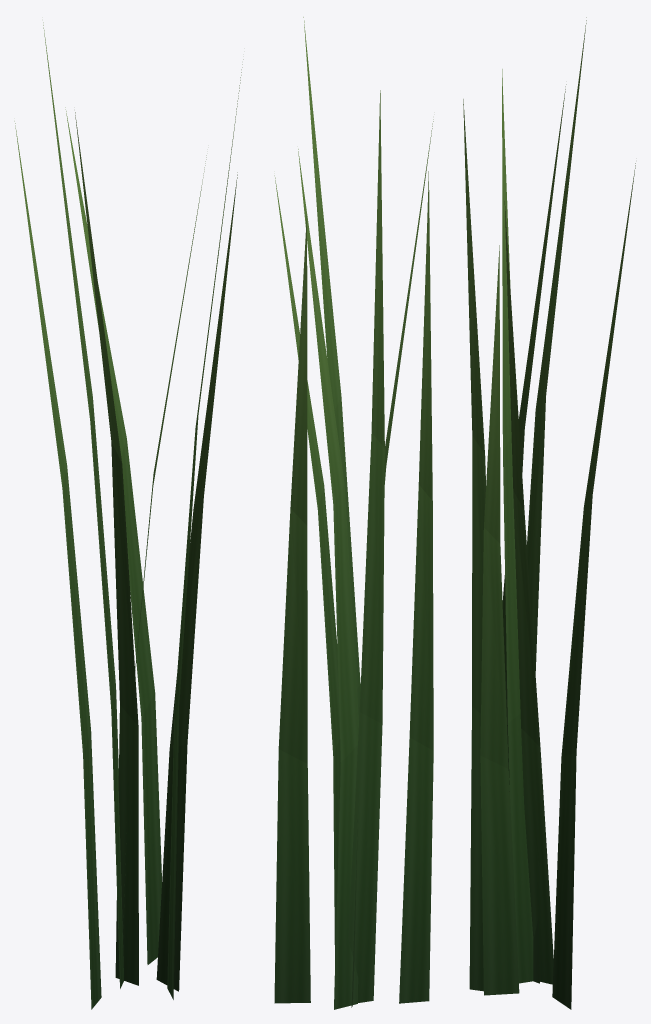
Rendered from forest_grass_002_a_LOD2.gltf.
3 views of the same model, side by side, from view 1: azimuth 30°, elevation 25°; view 2: azimuth 150°, elevation 25°; view 3: azimuth 270°, elevation 25° (orthographic).
Parts seen in each view (by area): view 1: forest_grass_002_a_LOD2; view 2: forest_grass_002_a_LOD2; view 3: forest_grass_002_a_LOD2.
Part boxes in pixels (bbox=[...]): forest_grass_002_a_LOD2: bbox=[14, 22, 243, 1009]; forest_grass_002_a_LOD2: bbox=[274, 17, 433, 1009]; forest_grass_002_a_LOD2: bbox=[463, 17, 635, 1009].
Size of the model in its own units: 0.0825 by 0.3986 by 0.0666.
Materials: 1 (1 with a texture image).
